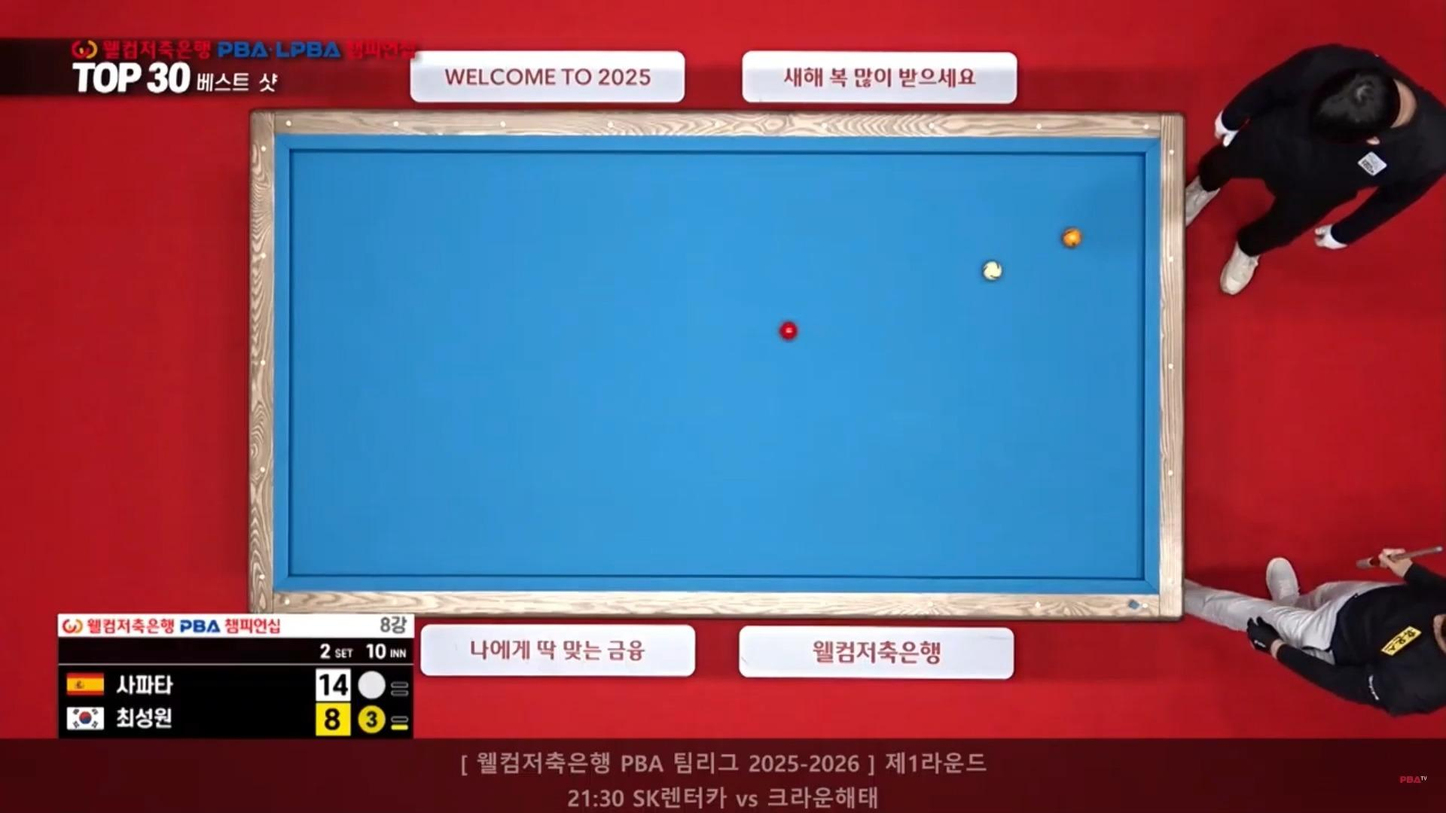Red: (779, 322, 802, 339)
White: (980, 261, 1004, 281)
Yellow: (1058, 228, 1083, 248), (1065, 232, 1089, 251)
